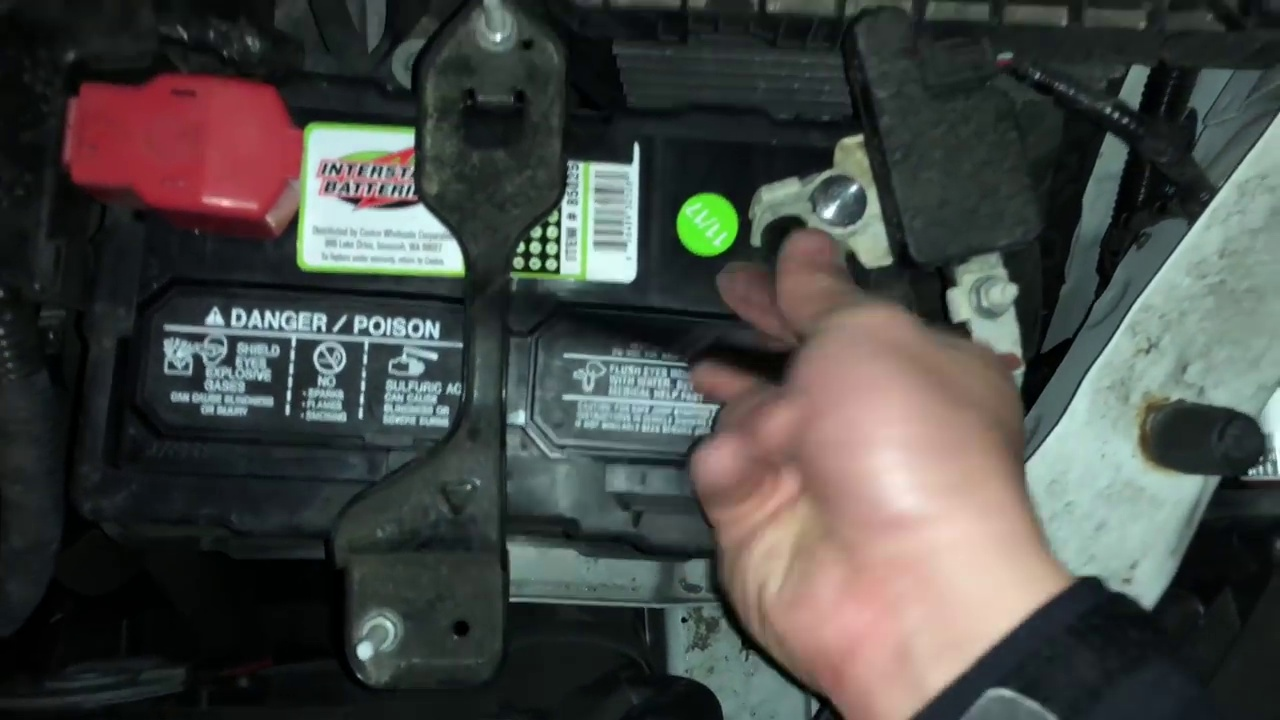battery: (84, 91, 918, 545)
neg_connected: (735, 125, 910, 287)
neg_touched: (724, 128, 926, 430)
pos_connected: (52, 61, 336, 243)
